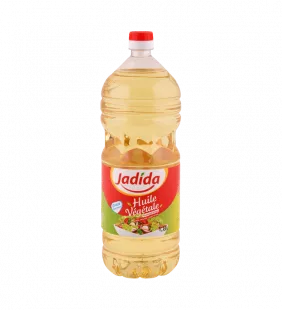JADIDA: (92, 20, 189, 284)
